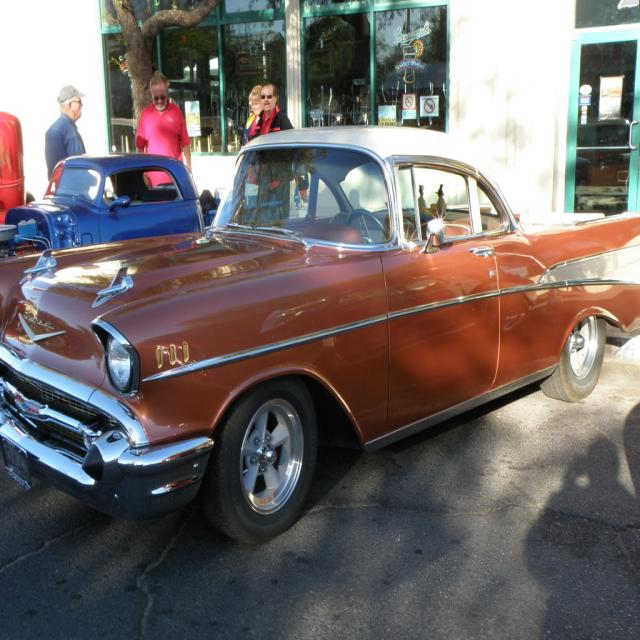Car: (0, 126, 640, 545), (0, 152, 224, 248)
